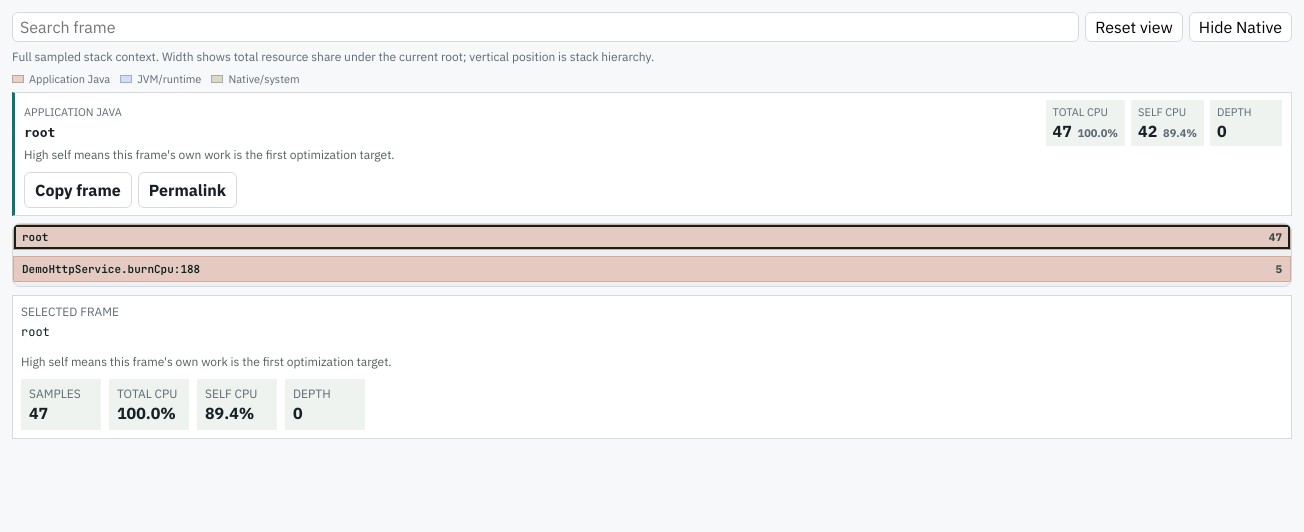
shows real Java demo frame names in the detail panel
Click the button "DemoHttpService.burnCpu:188 5" at (111, 269), box [13,256,1291,282]
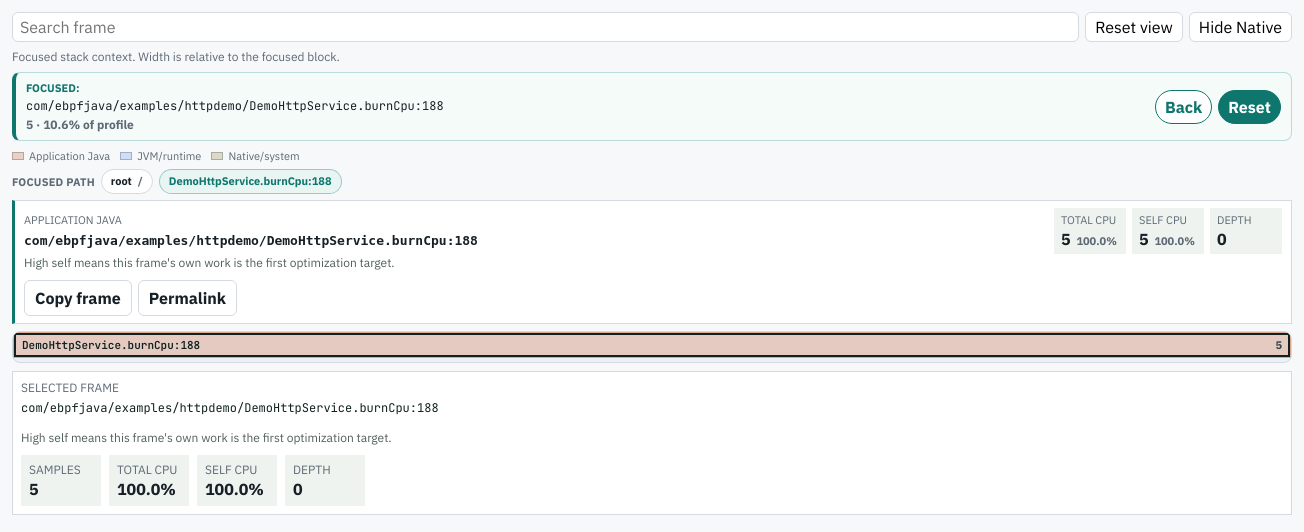
Expected: the element named "Selected flamegraph frame" shows "100.0%", [117,478,176,498]
Expected: the text "com/ebpfjava/examples/httpdemo/DemoHttpService.burnCpu:188" below "Selected frame" is shown, [21,400,439,416]
